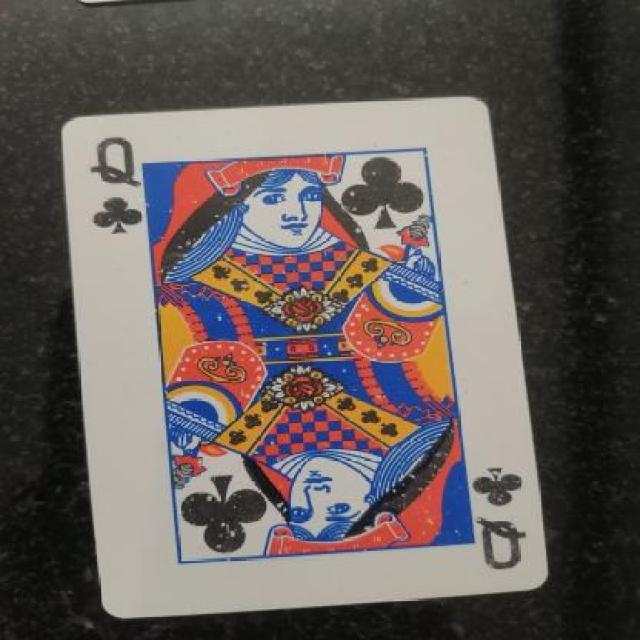QC: (466, 461, 542, 576), (70, 136, 145, 249)
